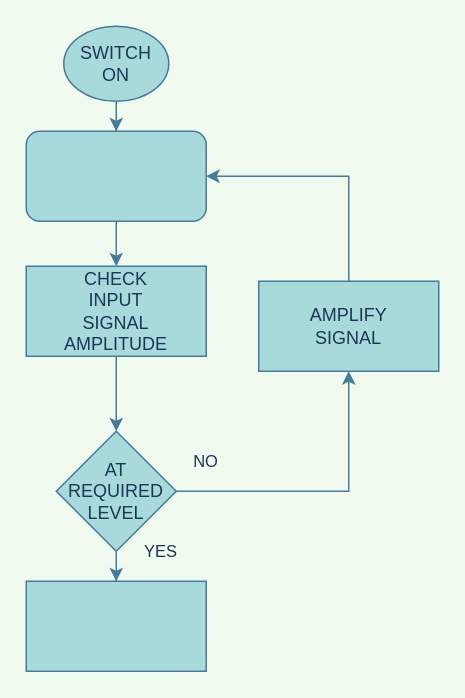
This 465x698 diagram has some shape labels left out. Each missing label, with the box of its shape:
MICROCONTROLLER INITIALIZE: (25, 130, 206, 221)
START PROCESSING: (25, 580, 206, 671)
